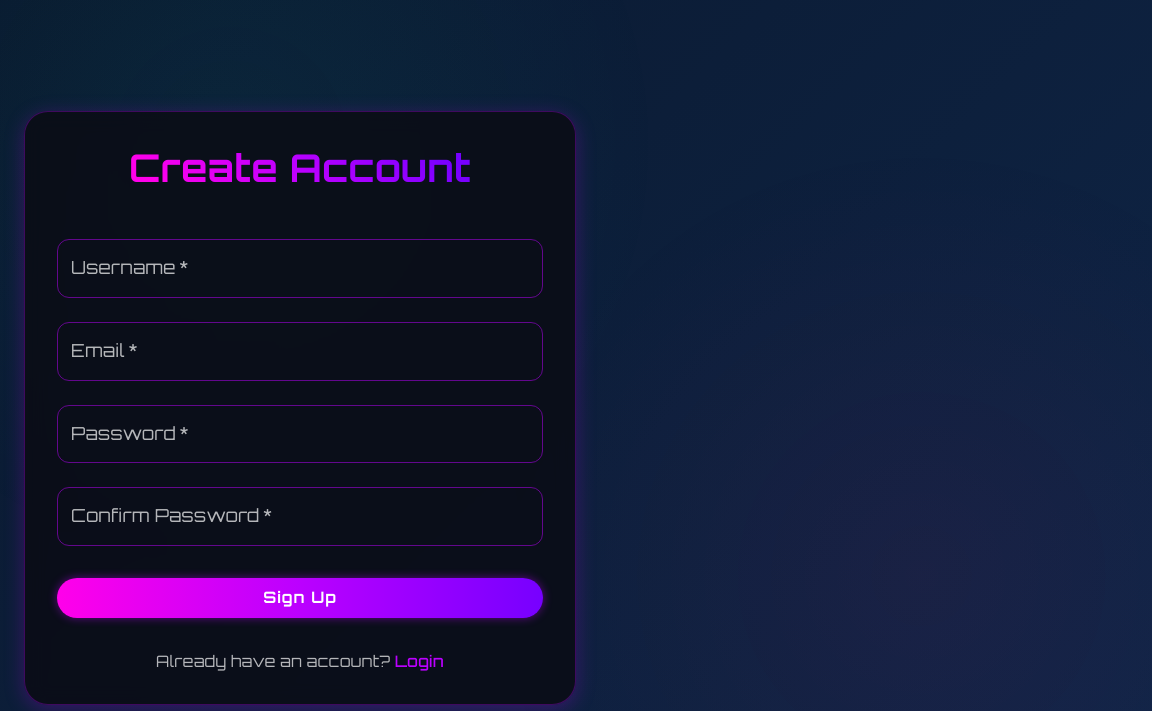
Test: Register Component › validates password match
The width and height of the screenshot is (1152, 711).
Type "newuser" into the field labelled "Username *" at (300, 268), box [57,239,543,298]
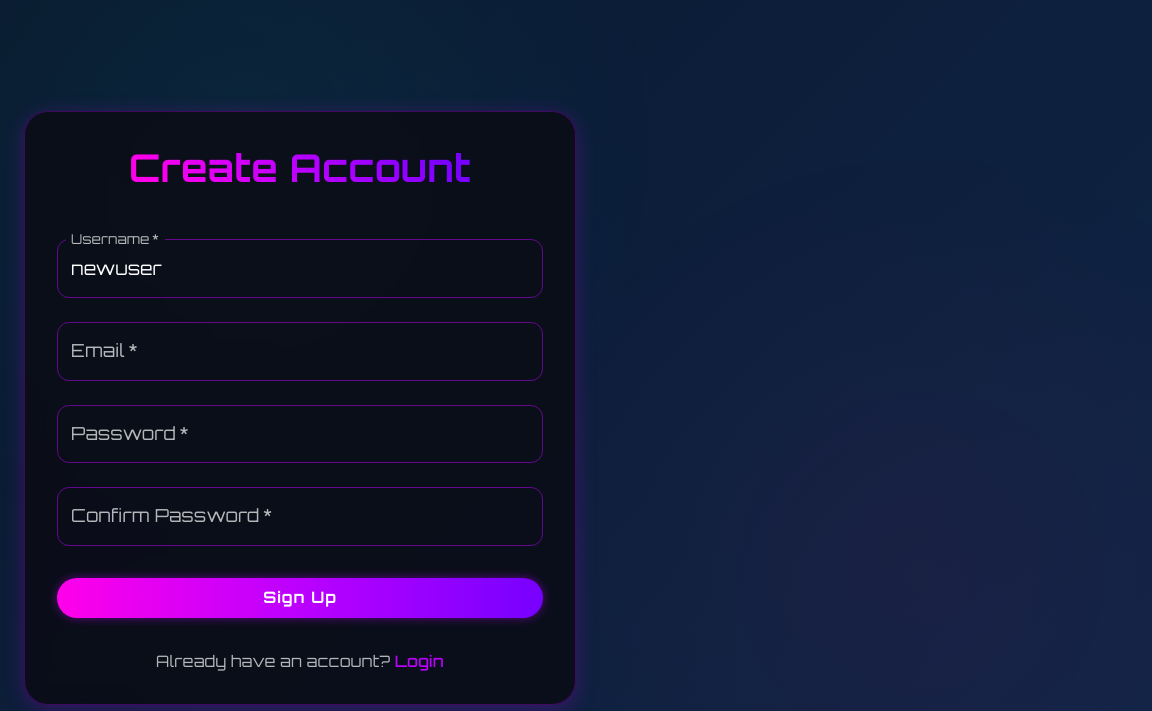
Type "test@example.com" into the field labelled "Email *" at (300, 351), box [57,322,543,381]
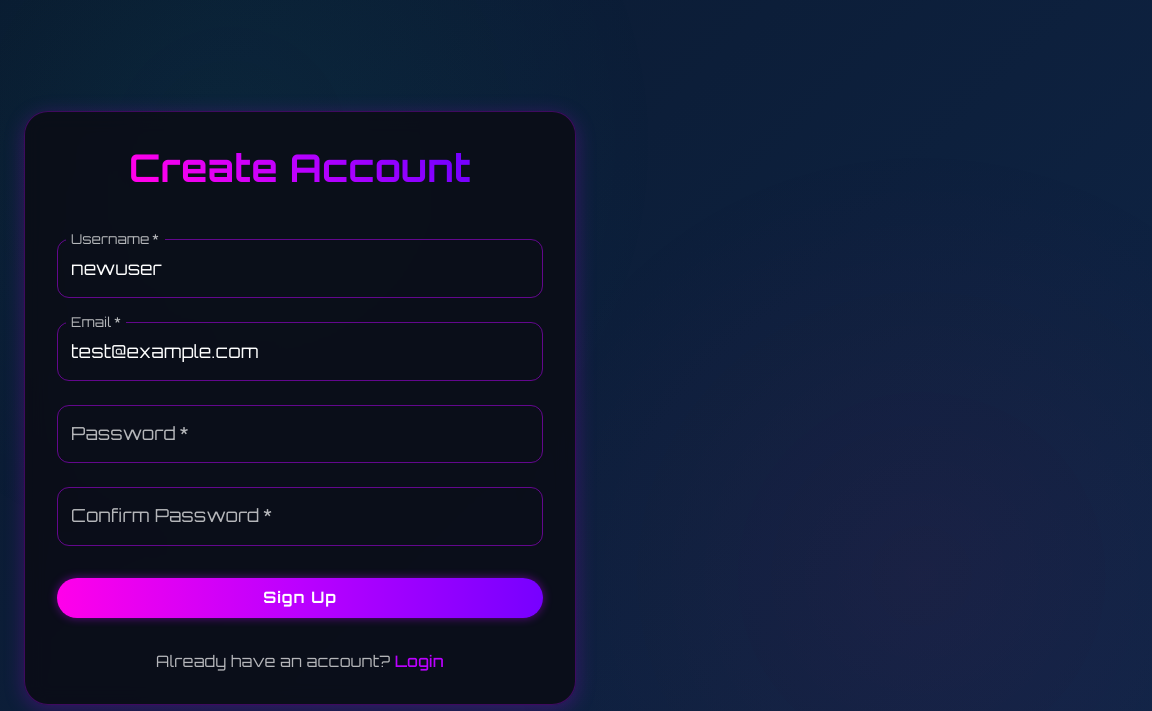
Type "password123" into the password field labelled "Password *" at (300, 434), box [57,405,543,464]
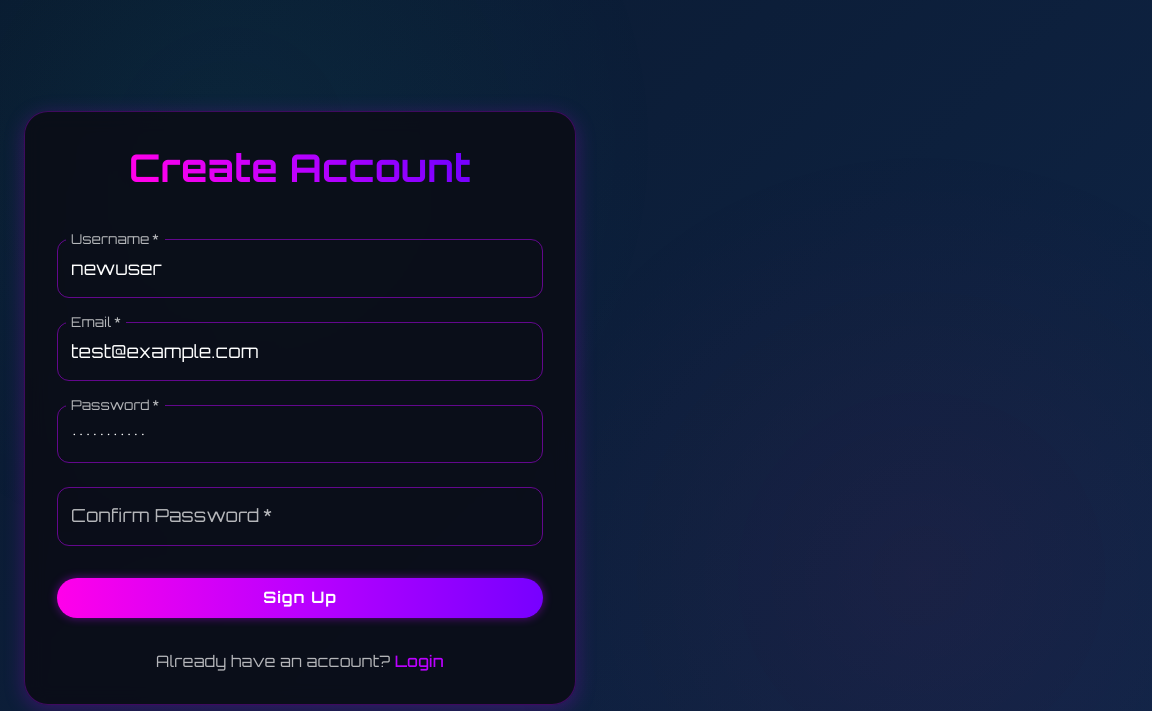
Type "password456" into the password field labelled "Confirm Password *" at (300, 517), box [57,488,543,546]
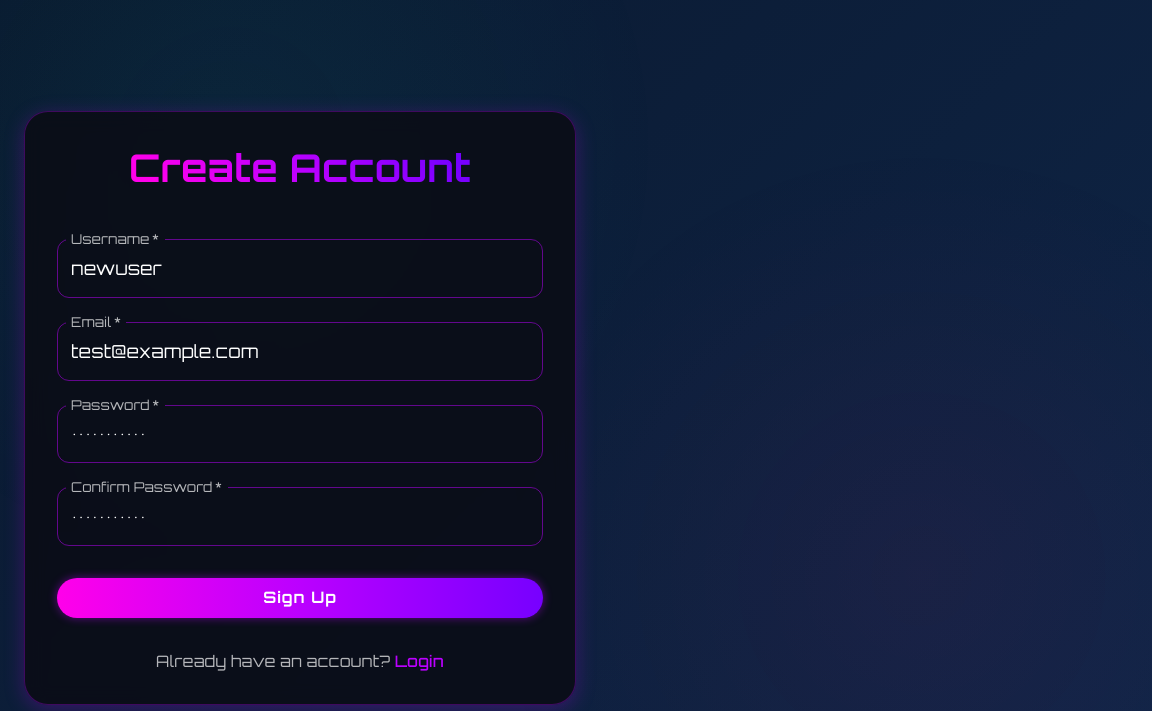
Click the button "Sign Up" at (300, 598), box [57,578,543,618]
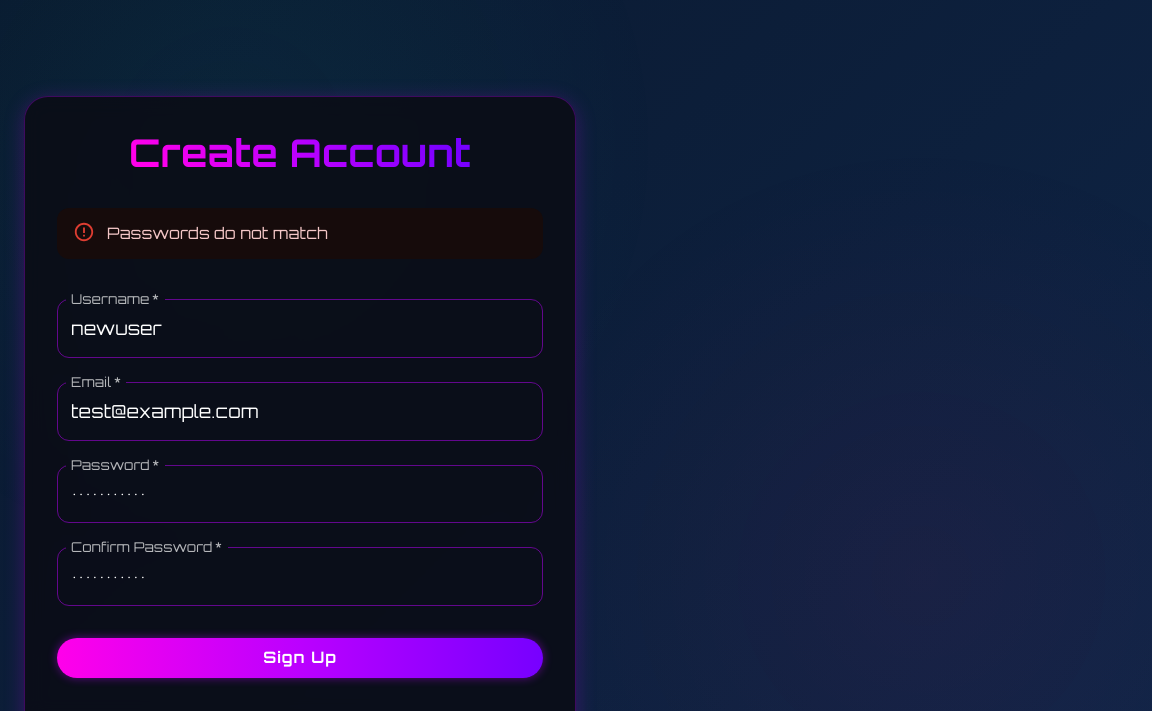
Result: the text "Passwords do not match" is shown at [107,223,328,243]
